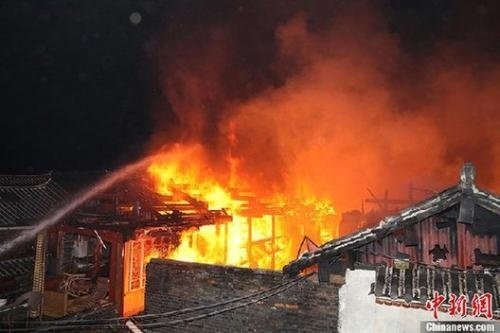fire: (146, 145, 338, 267)
